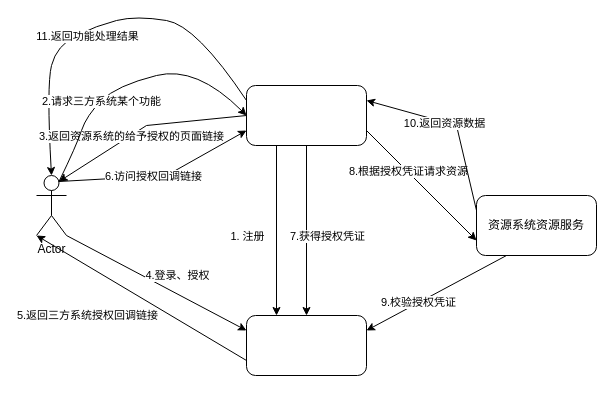
Some shapes in this 615 by 393 pixel diagram are drawn without their labels. The box of each missing label's shape, as (x1, y1, x2, y2) in pixels:
三方系统服务: (246, 84, 366, 146)
资源系统认证服务: (246, 314, 366, 376)
